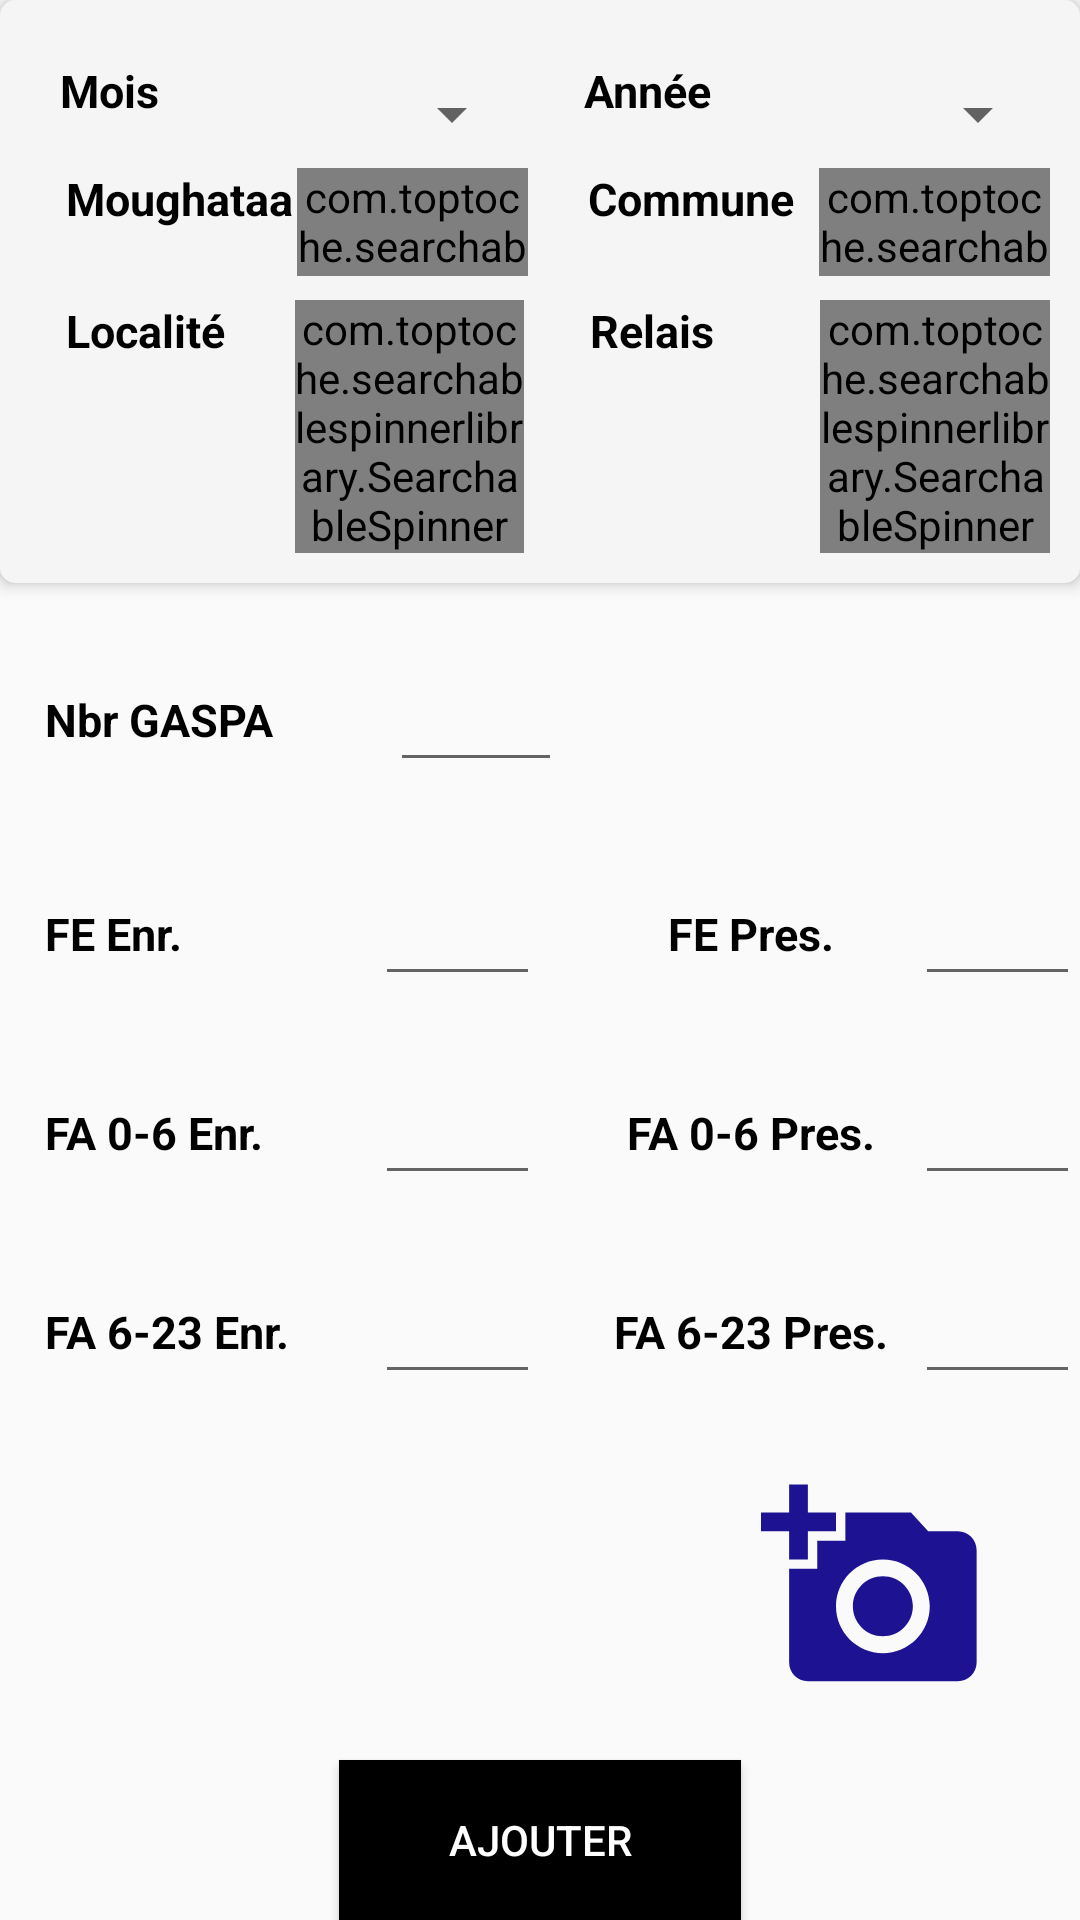

Icons on this 1080px×1920px Android screen, each with the point to tap as point (x, y):
add photo: point (869, 1583)
